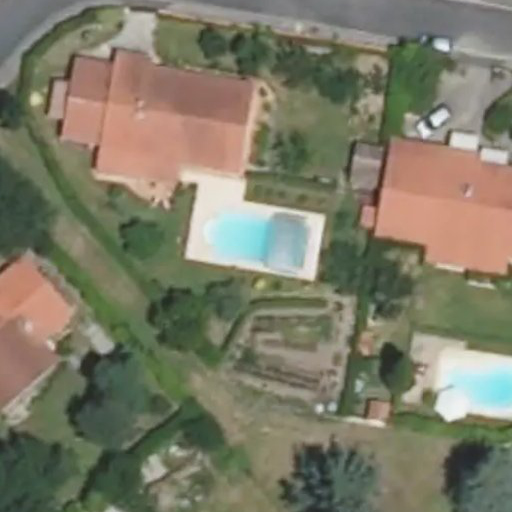pool: (209, 210, 313, 272), (442, 361, 512, 410)
